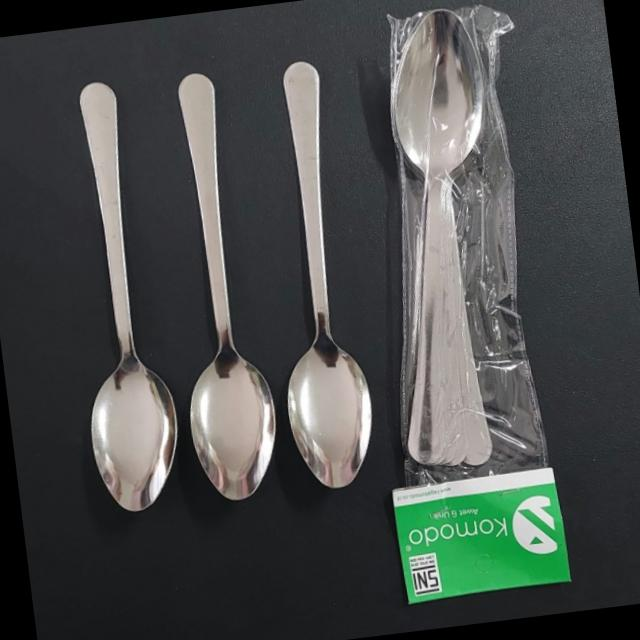spoon: (40, 73, 196, 525)
